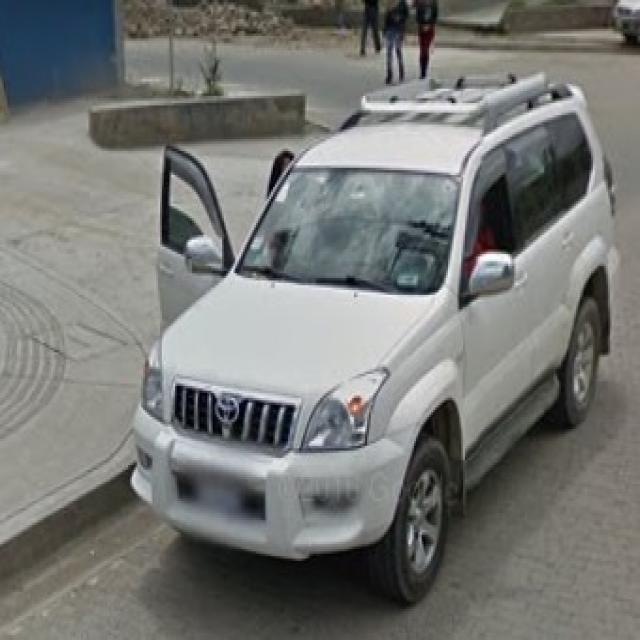cars: (138, 81, 613, 594)
